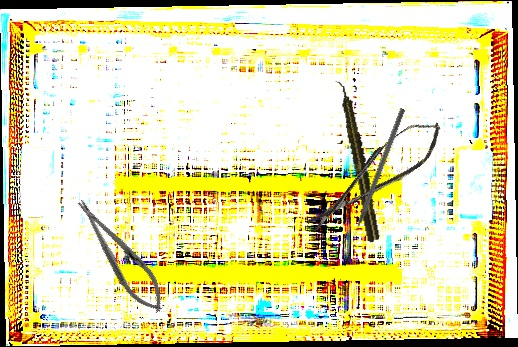Handpiece: (335, 78, 382, 244)
Hook Surgical: (346, 107, 407, 248)
Micro Scissor: (296, 111, 452, 240)
Needle Holder: (67, 191, 174, 320)
